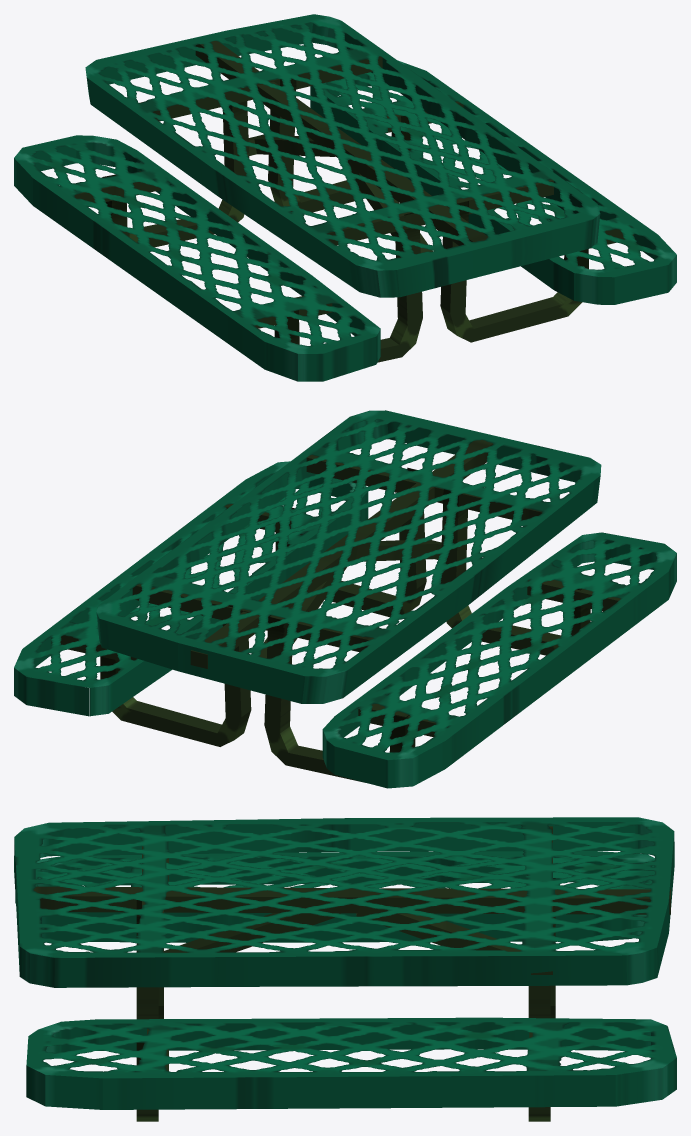
File: picnictable.fbx
3 renders of one model, top to bottom at view 1: azimuth 30°, elevation 25°; view 2: azimuth 150°, elevation 25°; view 3: azimuth 270°, elevation 25°, orthographic. The views are drawn at different scales.
Parts seen in each view (by area): view 1: picnic table; view 2: picnic table; view 3: picnic table.
Part boxes in pixels (left/top/right/bottom): picnic table: left=14, top=14, right=676, bottom=381; picnic table: left=14, top=410, right=676, bottom=788; picnic table: left=14, top=817, right=676, bottom=1121.
Bounding box in the file's own units: 170 × 56.75 × 210.
